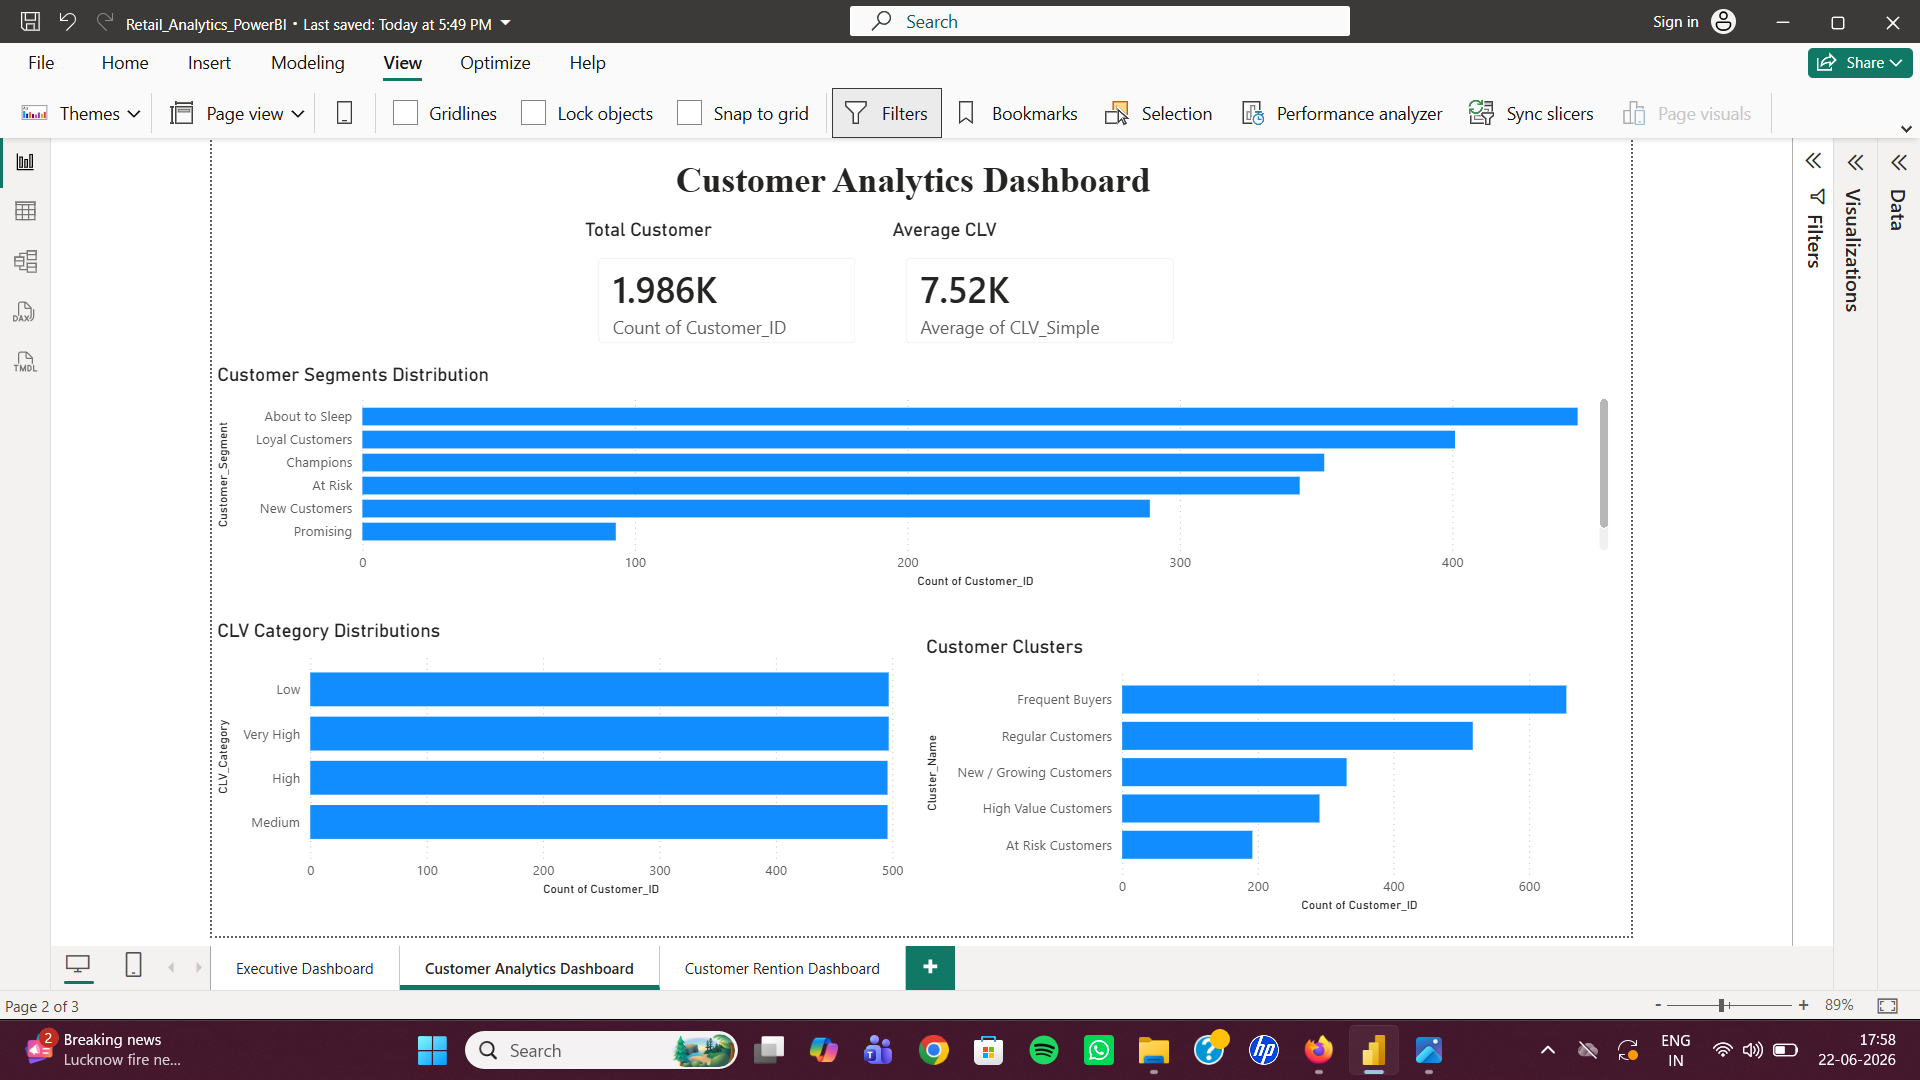

The page's visual inventory and layout, read from the dashboard file:
{"tool":"powerbi","page":{"name":"Customer Analytics Dashboard","canvas":[1280,720],"ordinal":1},"visuals":[{"type":"clusteredBarChart","title":"Customer Segments Distribution","fields":{"Category":["customer_segmentation_results.Customer_Segment"],"Y":["Count(customer_segmentation_results.Customer_ID)"]},"box":[0,203,1264.4,207.9],"z":0},{"type":"cardVisual","title":"Total Customer","fields":{"Data":["Count(customer_clv.Customer_ID)"]},"box":[331.4,72.1,266.6,130.8],"z":1000},{"type":"cardVisual","title":"Average CLV","fields":{"Data":["Avg(customer_clv.CLV_Simple)"]},"box":[609,72.1,276.4,130.8],"z":2000},{"type":"textbox","box":[0,14.7,1264.4,57.5],"z":3000},{"type":"clusteredBarChart","title":"CLV Category Distributions","fields":{"Y":["CountNonNull(customer_clv.Customer_ID)"],"Category":["customer_clv.CLV_Category"]},"box":[0,434.1,628.5,254.3],"z":4000},{"type":"clusteredBarChart","title":"Customer Clusters","fields":{"Category":["customer_segmentation_results.Cluster_Name"],"Y":["CountNonNull(customer_segmentation_results.Customer_ID)"]},"box":[639.5,448.8,624.9,254.3],"z":5000}]}

Visuals, with their boxes on the page's 1280x720 design canvas (x1, y1, x2, y2). These are canvas units, not pixel positions in the 1920x1080 screenshot, which may show the page scaled, cropped or inside an application window:
"Customer Segments Distribution" clusteredBarChart: (x1=0, y1=203, x2=1264, y2=411)
"Total Customer" cardVisual: (x1=331, y1=72, x2=598, y2=203)
"Average CLV" cardVisual: (x1=609, y1=72, x2=885, y2=203)
textbox: (x1=0, y1=15, x2=1264, y2=72)
"CLV Category Distributions" clusteredBarChart: (x1=0, y1=434, x2=628, y2=688)
"Customer Clusters" clusteredBarChart: (x1=640, y1=449, x2=1264, y2=703)
